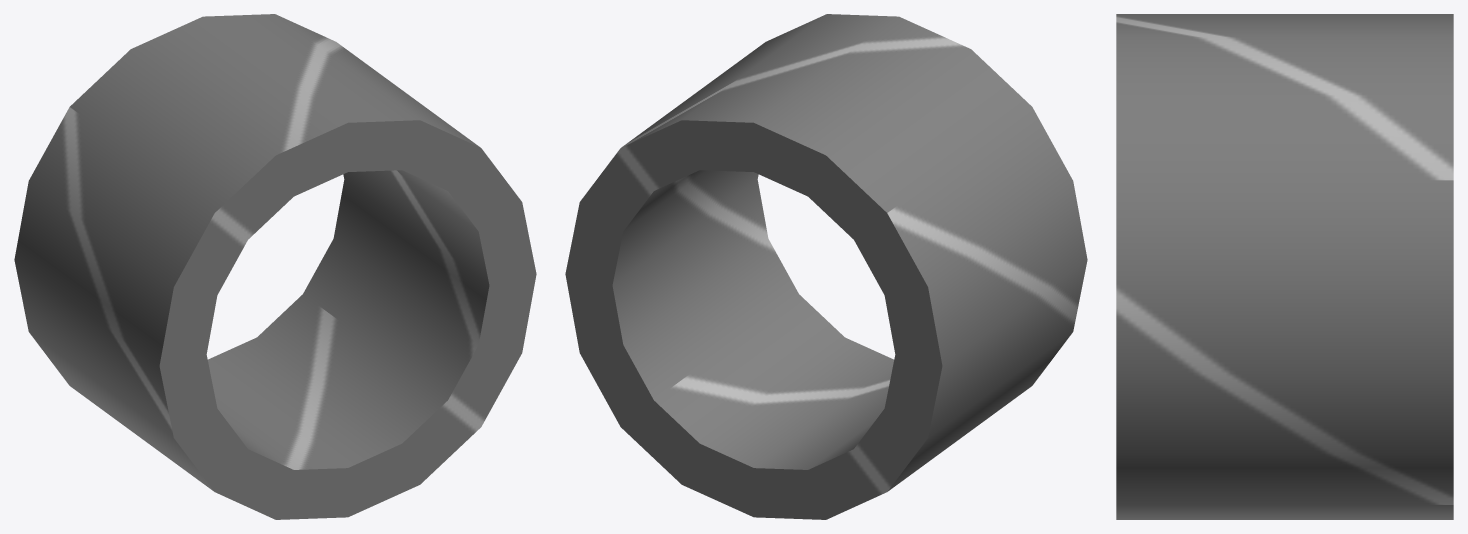
File: FSS-S2-Upper-Barrel.obj
The picture shows the model from 3 angles, left to right: view 1: azimuth 30°, elevation 25°; view 2: azimuth 150°, elevation 25°; view 3: azimuth 270°, elevation 25°; orthographic projection. The views are drawn at different scales.
Visible parts, largest first — view 1: FSS-S2-Upper-Barrel; view 2: FSS-S2-Upper-Barrel; view 3: FSS-S2-Upper-Barrel.
Boxes of the visible parts, x1,y1,x2,y2 form: FSS-S2-Upper-Barrel: [14, 14, 536, 519]; FSS-S2-Upper-Barrel: [565, 14, 1087, 519]; FSS-S2-Upper-Barrel: [1116, 14, 1453, 519].
Bounding box in the file's own units: 0.3 × 0.3 × 0.2.
